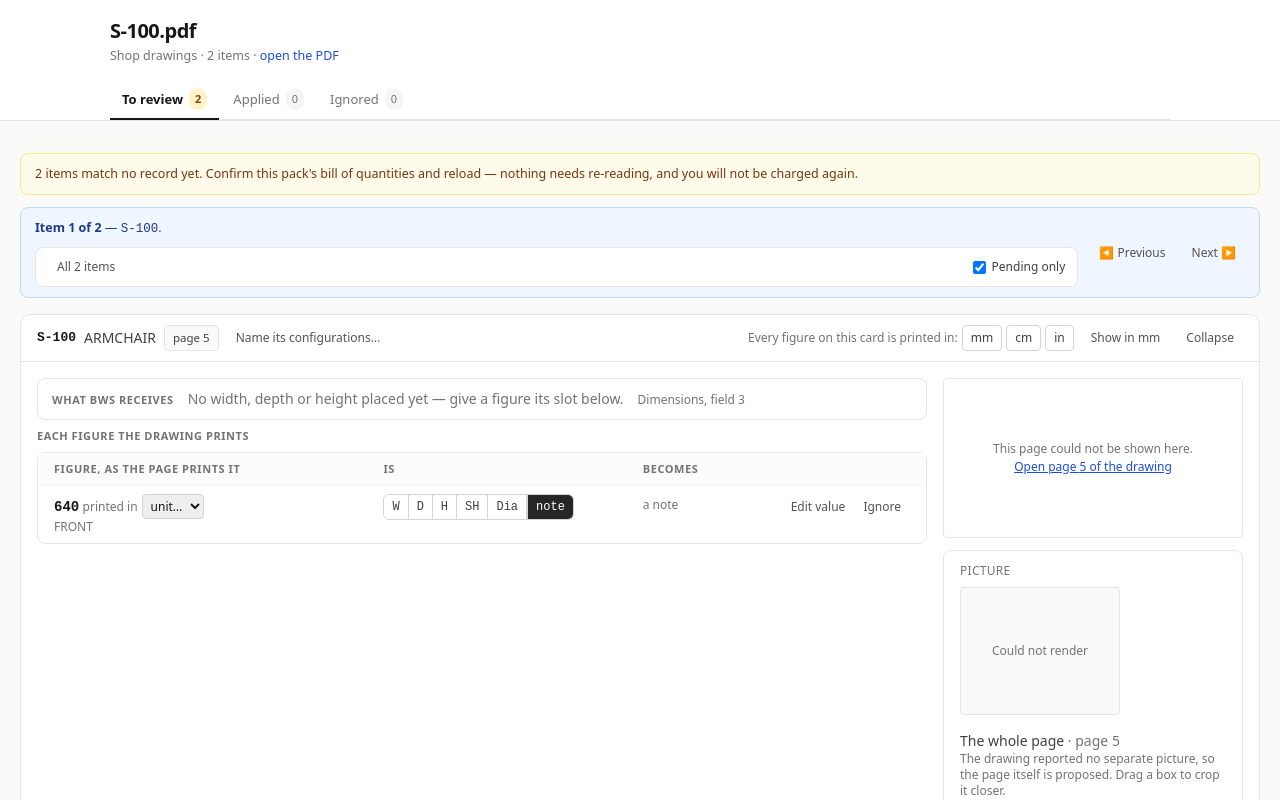
the item navigator › moves to the next card and never hides the one it left
Expected: the text "Item 1 of 2" is shown, [35,219,102,236]
Click the button "Next ▶" at [1214, 252], box [1182,240,1245,266]
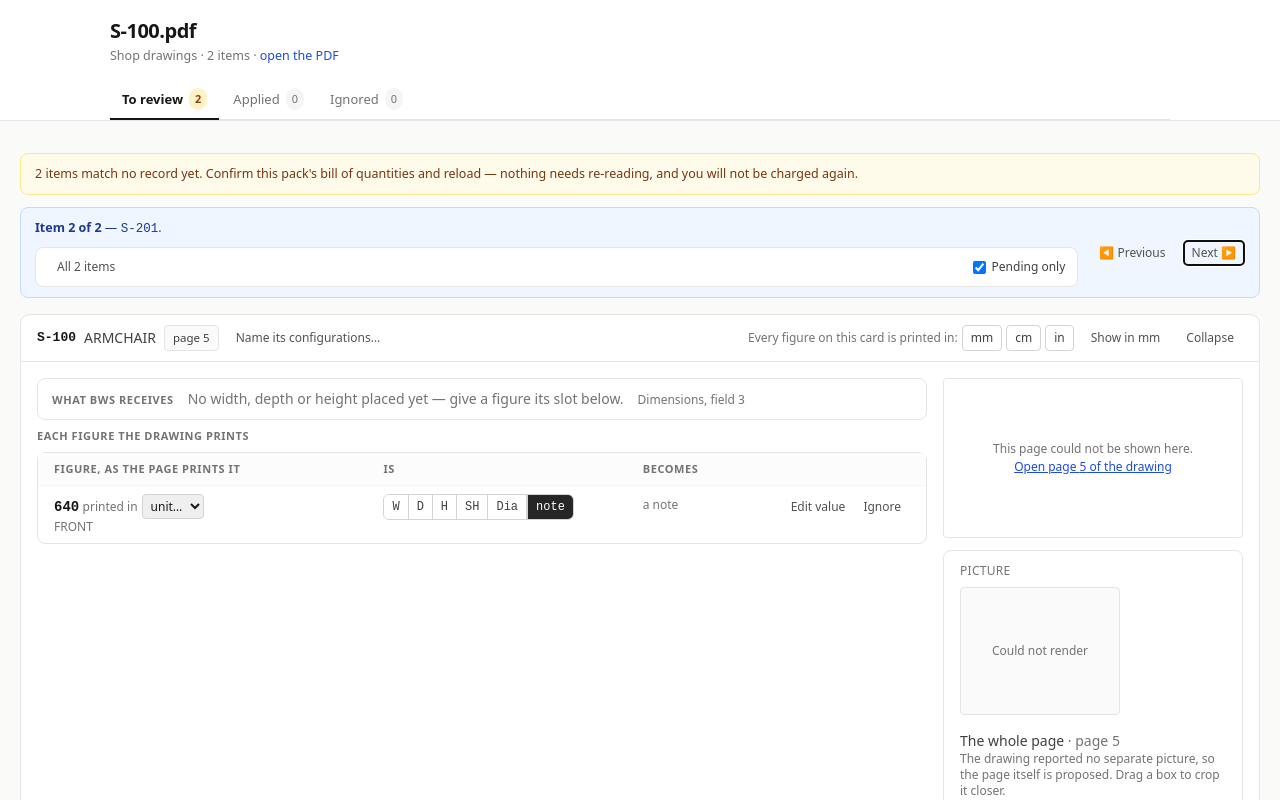
Expected: the text "S-100" is shown, [37,328,76,348]
Expected: the text "Item 2 of 2" is shown, [35,219,102,236]
Expected: the text "S-201" is shown, [121,222,158,236]
